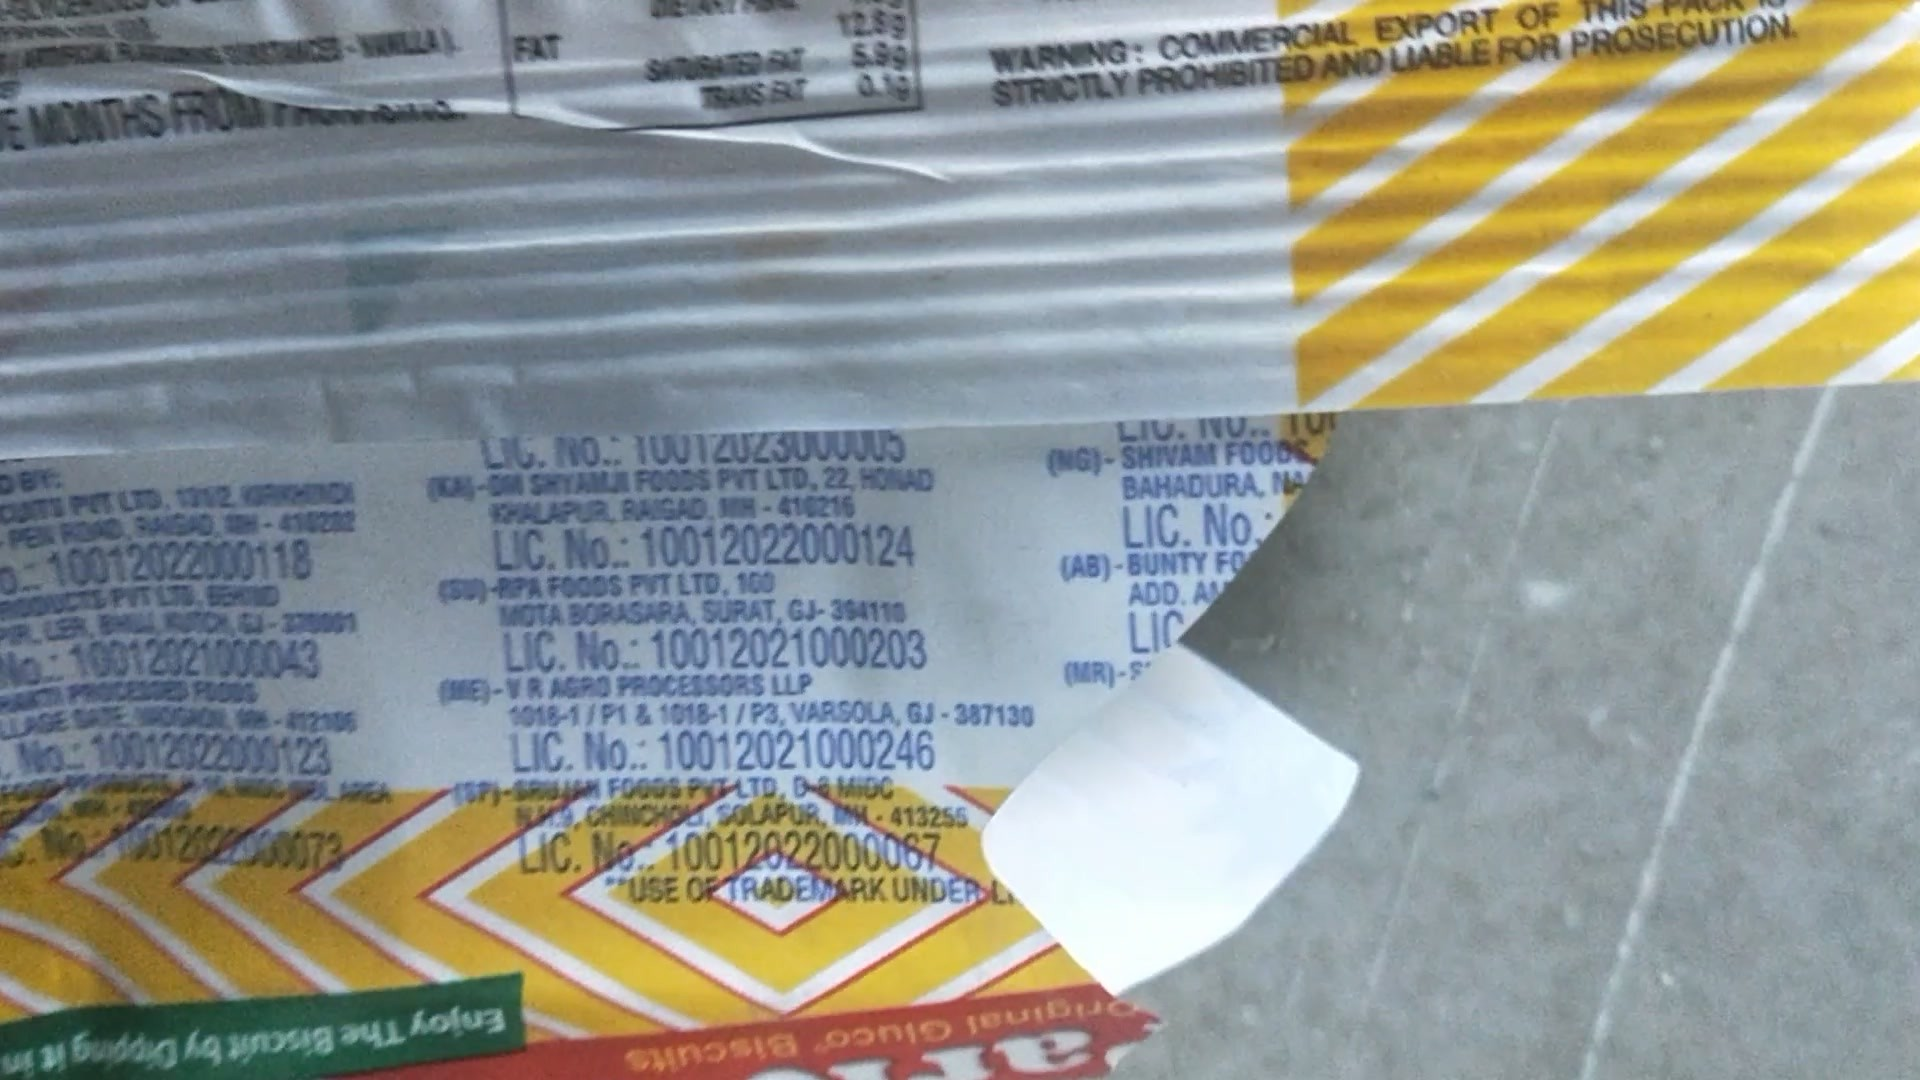parle-g-b: (1, 18, 1149, 1054)
